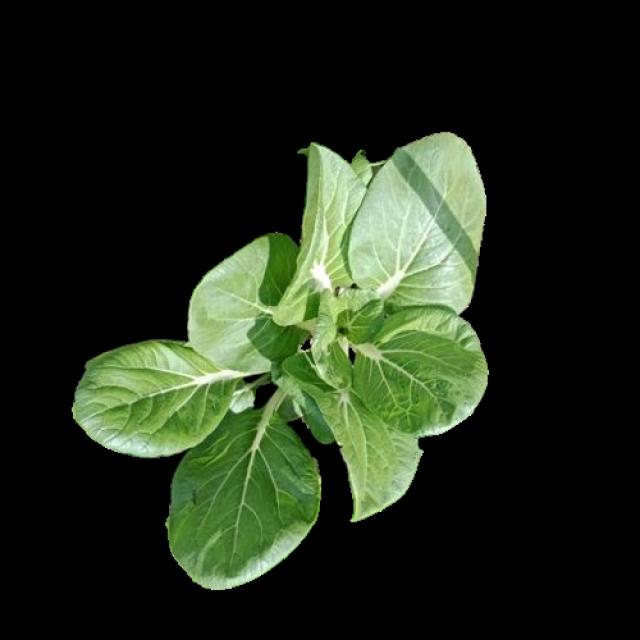healthy: (85, 148, 482, 600)
not-mature: (79, 134, 485, 603)
